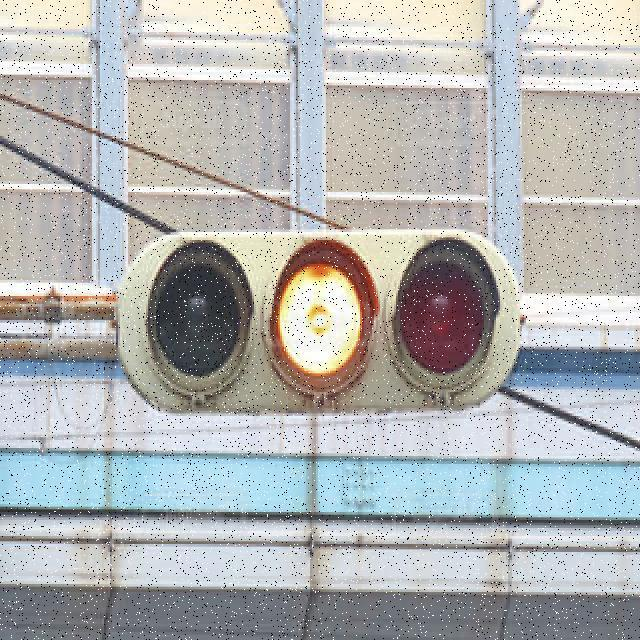yellow_light: (248, 240, 406, 419)
